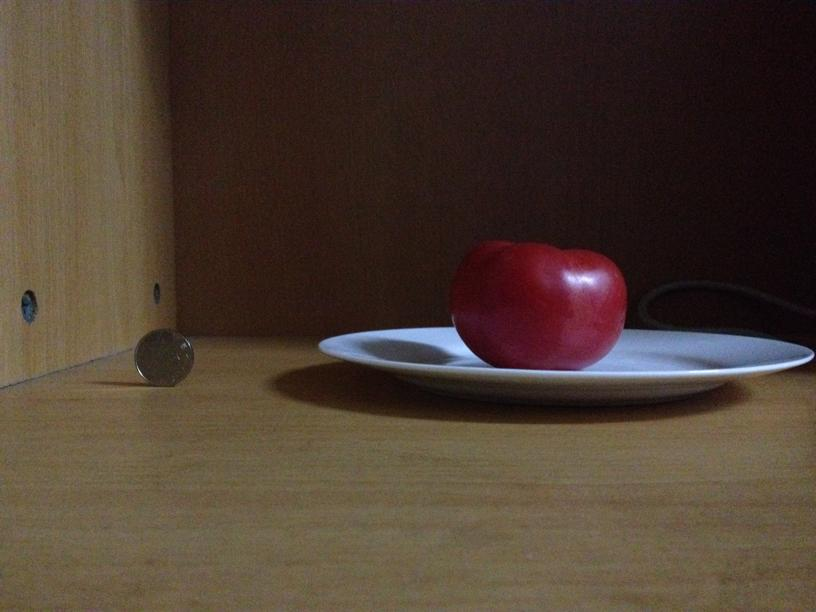coin: (130, 325, 195, 386)
tomato: (450, 240, 625, 375)
